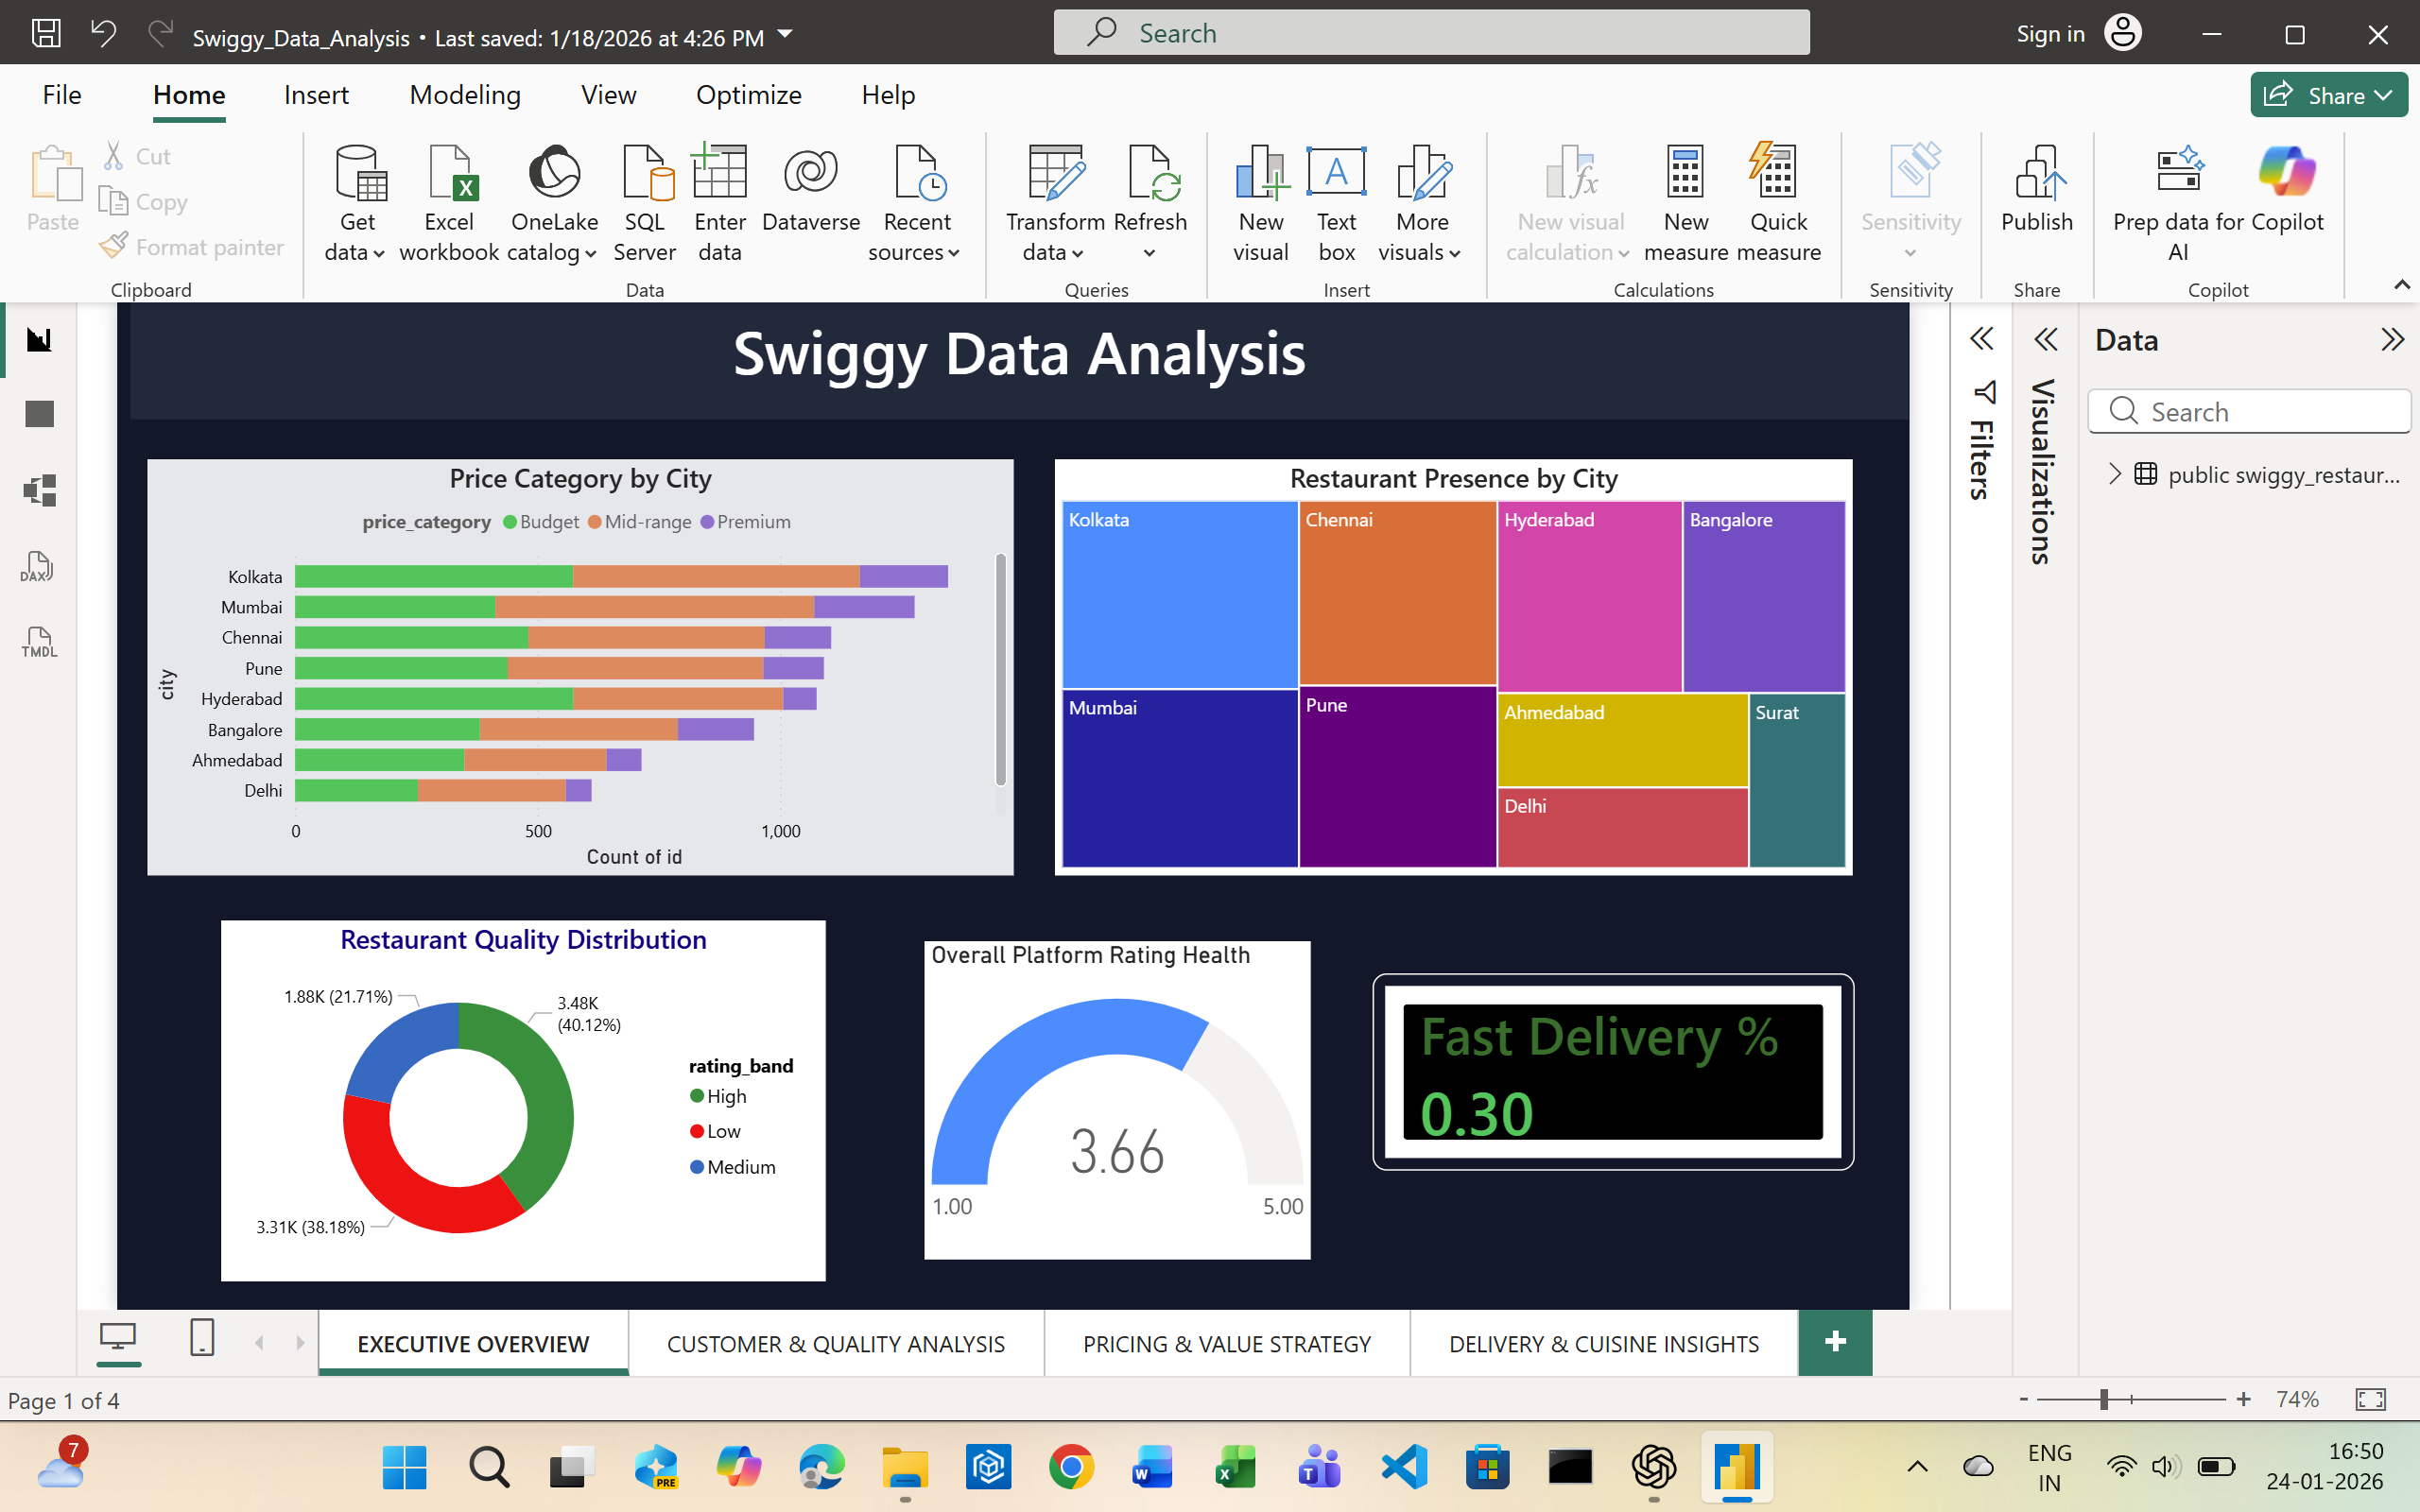

Layout of this report page (visuals, bound fields, positions):
{"tool":"powerbi","page":{"name":"EXECUTIVE OVERVIEW","canvas":[1280,720],"ordinal":0},"visuals":[{"type":"textbox","box":[9.5,0,1270.5,83.3],"z":0},{"type":"cardVisual","fields":{"Data":["public swiggy_restaurants.Fast Delivery %"]},"box":[896.3,479.2,344.3,141],"z":1000},{"type":"treemap","title":"Restaurant Presence by City","fields":{"Group":["public swiggy_restaurants.city"],"Values":["CountNonNull(public swiggy_restaurants.id)"]},"box":[670.3,112.2,570.2,297.3],"z":2000},{"type":"barChart","title":"Price Category by City","fields":{"Category":["public swiggy_restaurants.city"],"Y":["CountNonNull(public swiggy_restaurants.id)"],"Series":["public swiggy_restaurants.price_category"]},"box":[21.2,112.2,618.8,297.3],"z":3000},{"type":"donutChart","title":"Restaurant Quality Distribution","fields":{"Category":["public swiggy_restaurants.rating_band"],"Y":["CountNonNull(public swiggy_restaurants.id)"]},"box":[74.3,441.3,432.2,257.8],"z":4000},{"type":"gauge","title":"Overall Platform Rating Health","fields":{"Y":["Avg(public swiggy_restaurants.avg_ratings)"]},"box":[576.3,456.5,276,227.5],"z":5000}]}

Visuals, with their boxes on the page's 1280x720 design canvas (x1, y1, x2, y2). These are canvas units, not pixel positions in the 2420x1512 screenshot, which may show the page scaled, cropped or inside an application window:
textbox: <box>10,0,1280,83</box>
cardVisual - public swiggy_restaurants.Fast Delivery %: <box>896,479,1241,620</box>
"Restaurant Presence by City" treemap: <box>670,112,1240,410</box>
"Price Category by City" barChart: <box>21,112,640,410</box>
"Restaurant Quality Distribution" donutChart: <box>74,441,506,699</box>
"Overall Platform Rating Health" gauge: <box>576,456,852,684</box>
